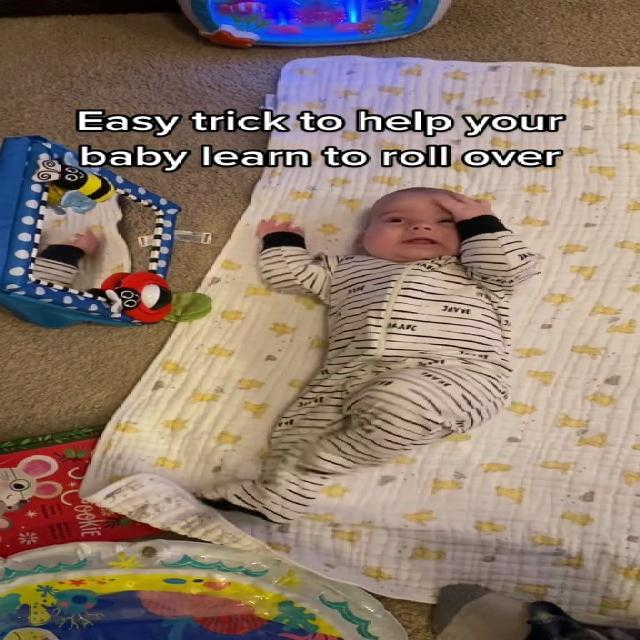baby: (206, 182, 544, 523)
